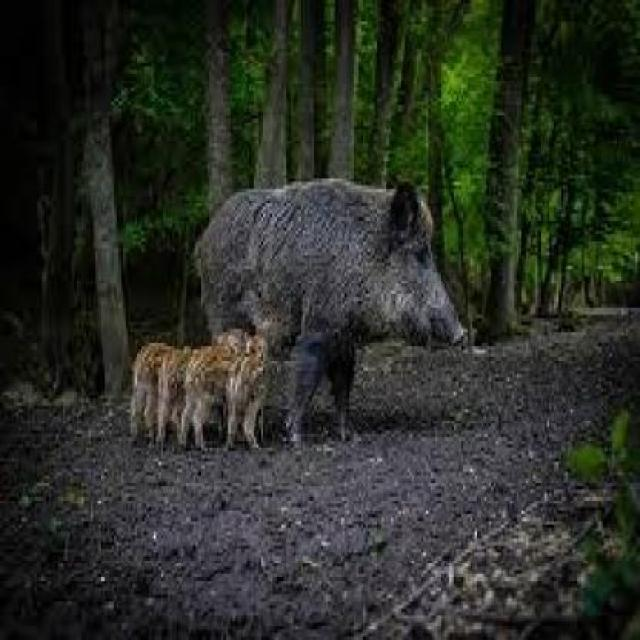wildboar: (192, 172, 471, 451), (122, 331, 210, 435), (228, 328, 290, 448), (188, 332, 248, 454), (155, 336, 216, 441)
